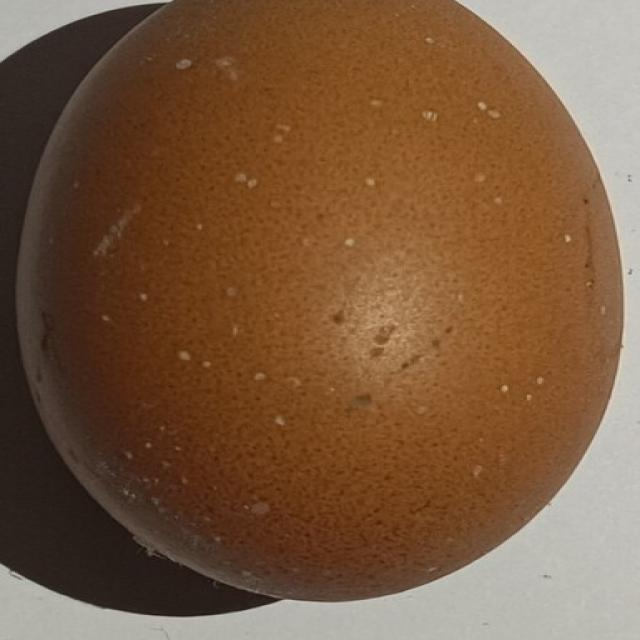unfresh: (3, 0, 637, 618)
